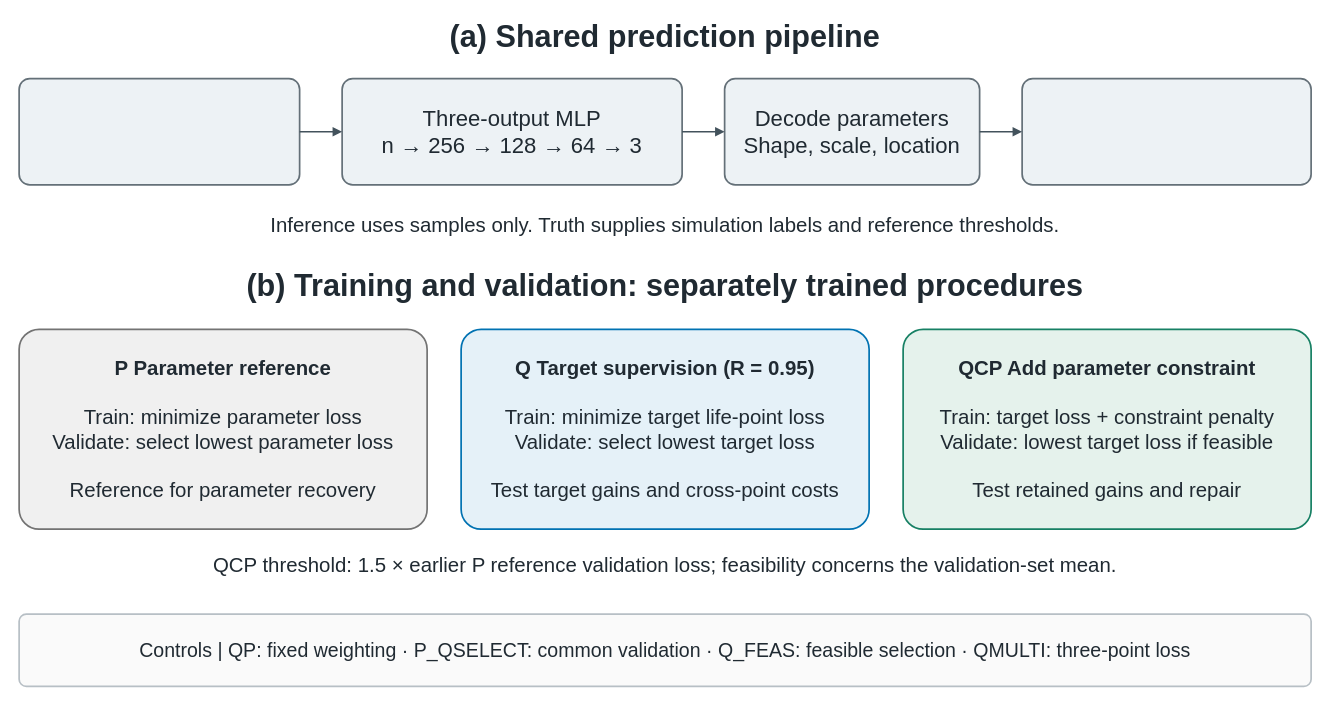
Image size: 1329x701. Some labels were removed from this diagram. The box of each missing label's shape, as (x1, y1, x2, y2) in pixels:
Lifetime sample X Sort and standardize: (18, 77, 300, 185)
Weibull formula Reliability life points: (1021, 77, 1312, 185)
